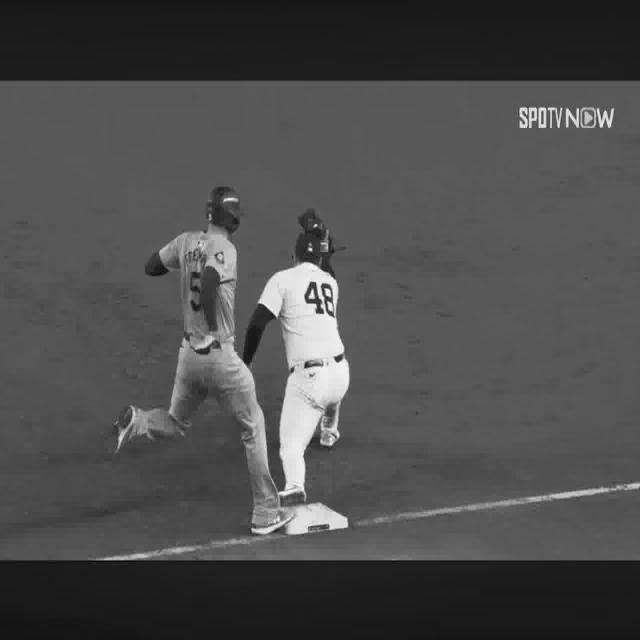base: (285, 503, 349, 535)
baseball_glove: (299, 208, 329, 254)
shoe: (250, 510, 294, 535), (114, 405, 136, 453), (278, 487, 306, 502), (321, 426, 340, 443)
